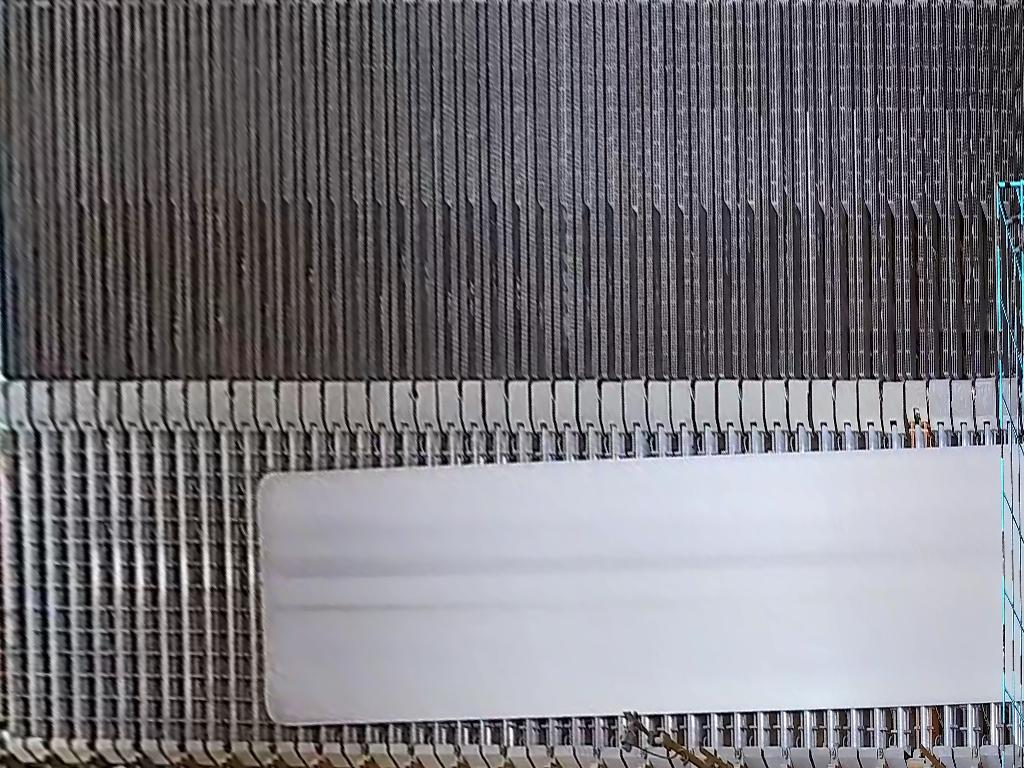steel: (259, 442, 1024, 728)
